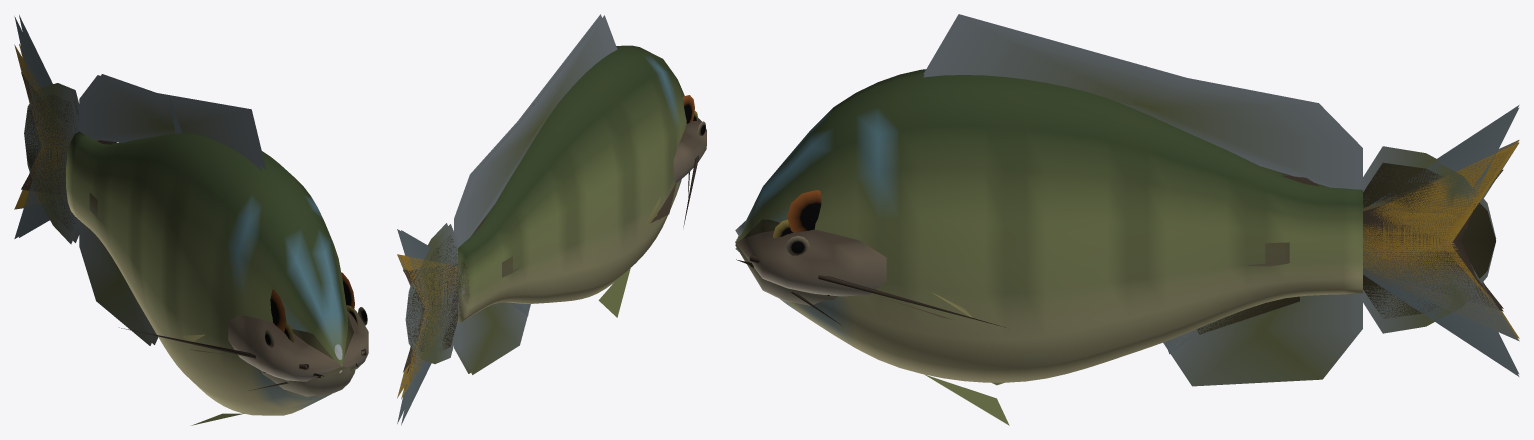
File: peixes.glb
3 renders of one model, left to right at view 1: azimuth 30°, elevation 25°; view 2: azimuth 150°, elevation 25°; view 3: azimuth 270°, elevation 25°, orthographic. The views are drawn at different scales.
Visible parts, largest first — view 1: acara, jundia, traira, camurupim, lambari, piau; view 2: acara, jundia, camurupim, lambari, traira, piau, robalo; view 3: acara, jundia, lambari, traira, camurupim, piau, robalo.
Boxes of the visible parts, box(x1,y1,x2,y2) form: acara: box(24, 74, 354, 425); jundia: box(21, 72, 368, 390); traira: box(24, 95, 358, 396); camurupim: box(14, 15, 342, 359); lambari: box(14, 44, 342, 365); piau: box(18, 54, 71, 193); acara: box(405, 14, 694, 374); jundia: box(403, 118, 706, 372); camurupim: box(397, 102, 534, 425); lambari: box(397, 254, 464, 398); traira: box(406, 110, 698, 351); piau: box(402, 258, 504, 390); robalo: box(397, 254, 464, 398); acara: box(735, 14, 1495, 425); jundia: box(735, 169, 1503, 327); lambari: box(735, 140, 1519, 340); traira: box(735, 162, 1495, 334); camurupim: box(735, 66, 1519, 376); piau: box(1363, 150, 1510, 329); robalo: box(735, 140, 1519, 344).
Bounding box in the file's own units: 0.4 × 0.5461 × 1.
